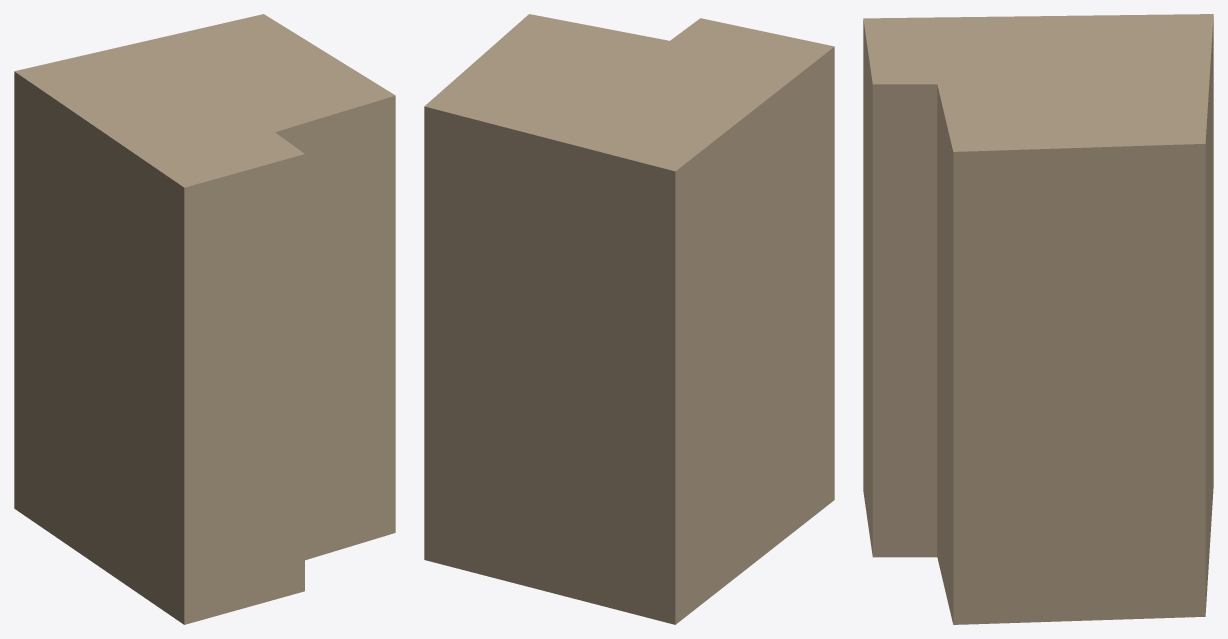
File: bld_98821428.dae
3 views of the same model, side by side, from view 1: azimuth 30°, elevation 25°; view 2: azimuth 150°, elevation 25°; view 3: azimuth 270°, elevation 25° (orthographic). The views are drawn at different scales.
Parts seen in each view (by area): view 1: Trend Hair Design; view 2: Trend Hair Design; view 3: Trend Hair Design.
Part boxes in pixels (left/top/right/bottom): Trend Hair Design: left=14, top=14, right=395, bottom=624; Trend Hair Design: left=424, top=14, right=834, bottom=624; Trend Hair Design: left=863, top=14, right=1213, bottom=624.
Bounding box in the file's own units: 5 × 5.37 × 8.
